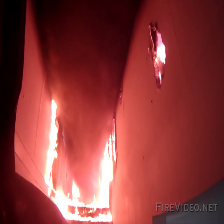fire_h: (88, 133, 115, 208), (45, 99, 57, 195), (57, 205, 113, 222), (52, 180, 86, 207)
fire_l: (156, 31, 166, 62)
